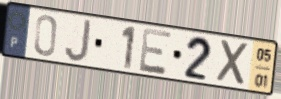0: (33, 13, 59, 58)
1: (120, 25, 138, 72)
2: (180, 34, 216, 85)
E: (138, 26, 174, 77)
J: (63, 18, 93, 64)
X: (215, 37, 252, 88)
